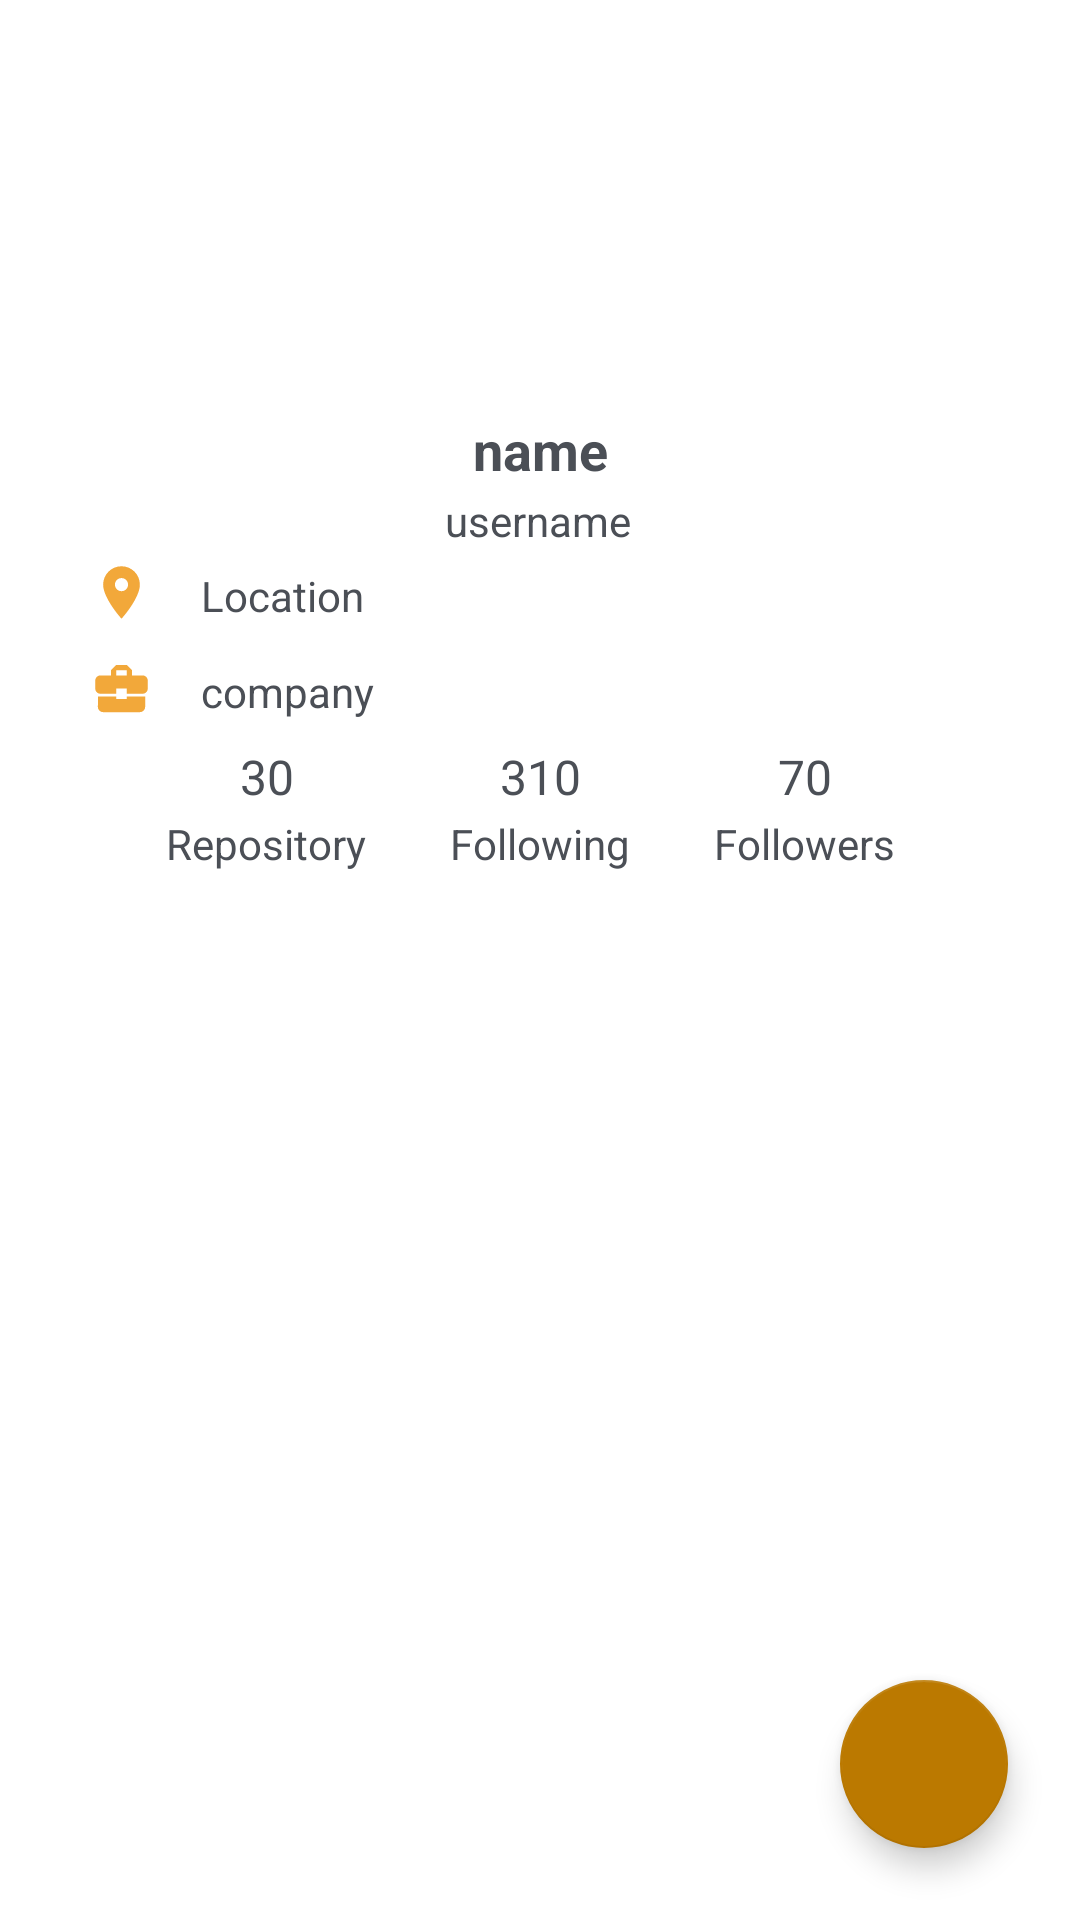

Point at icon controls on the screen. Image size 1080 × 1920, points as point (x, y).
business center: point (121, 689)
